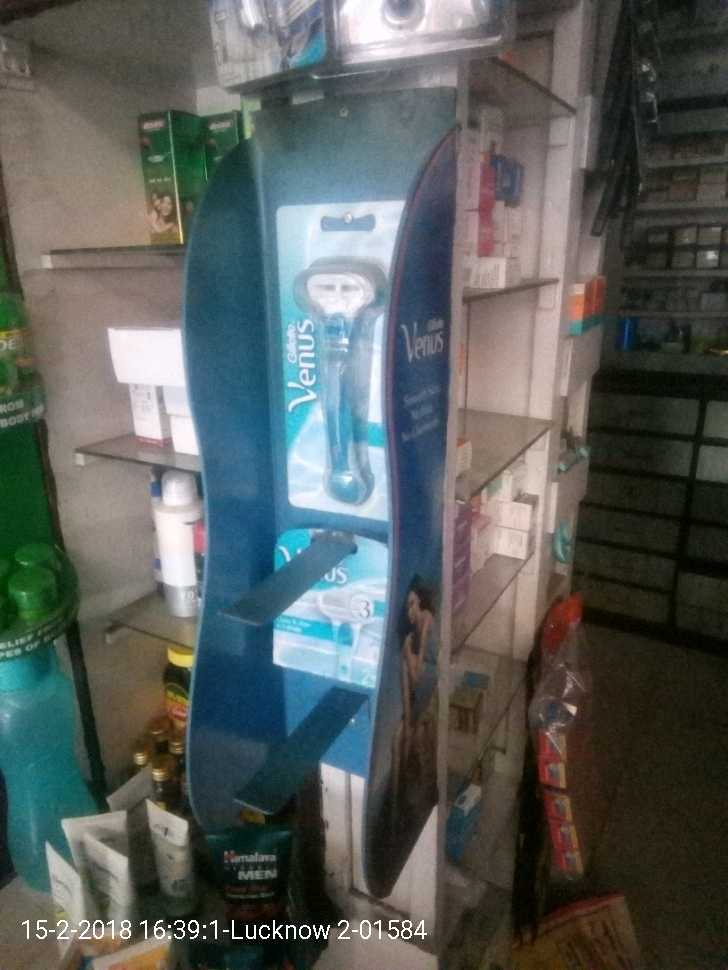venus: (272, 210, 377, 528)
